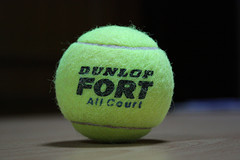tennis ball: (53, 24, 175, 142)
